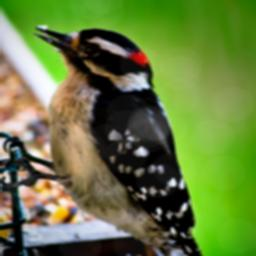Woodpecker: (0, 25, 211, 256)
